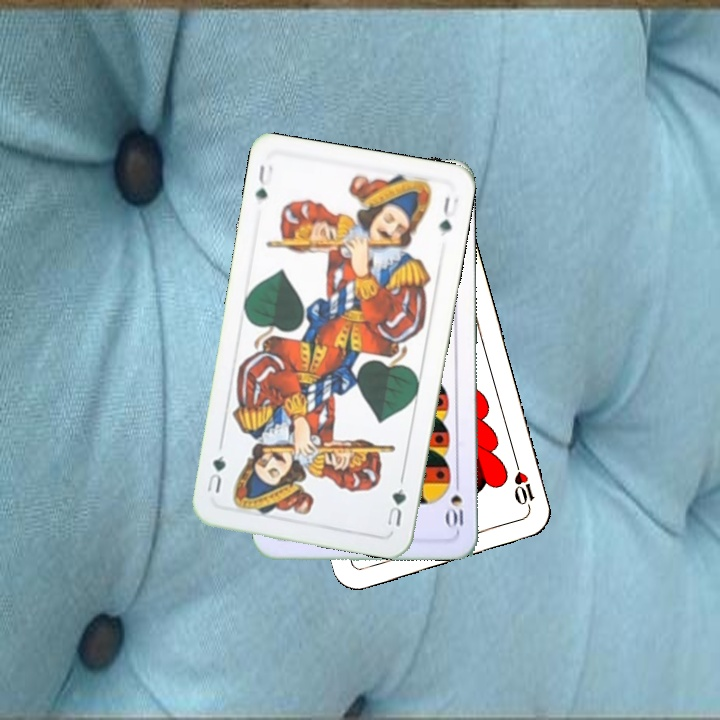GU: (383, 484, 409, 529), (251, 160, 276, 203)
H10: (510, 456, 537, 515)
S10: (444, 474, 466, 533)
